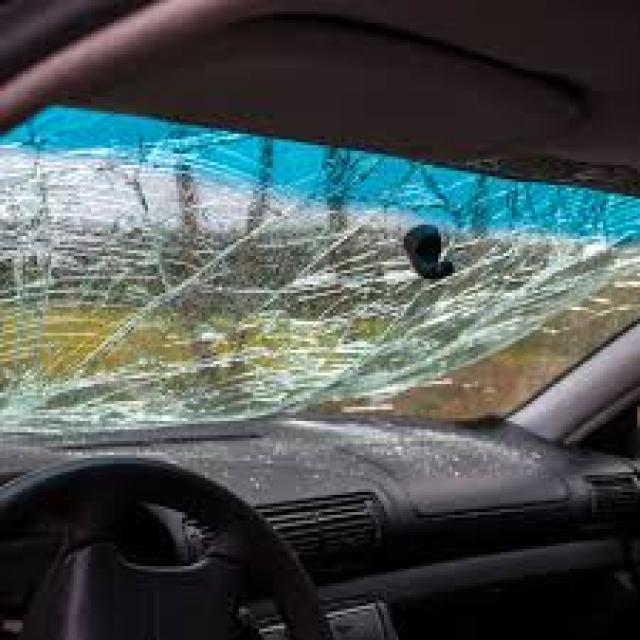damaged-windscreen: (0, 102, 627, 442)
